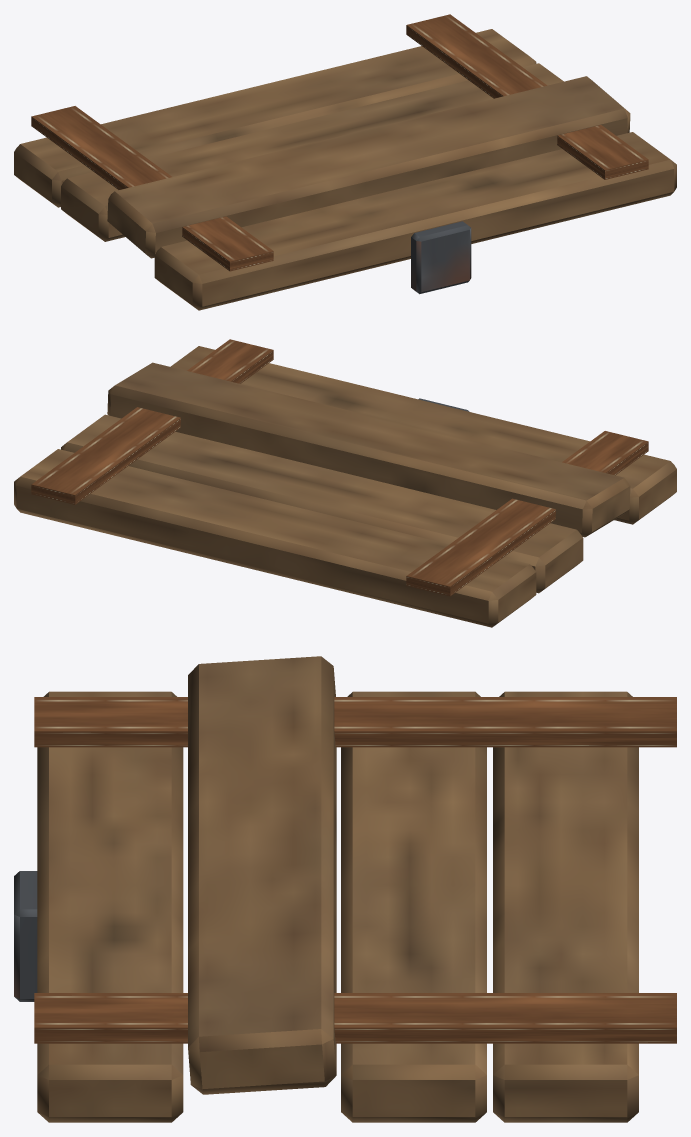
File: SM_StorageBox_Lid_Damaged.fbx
3 views of the same model, one above another, from view 1: azimuth 30°, elevation 25°; view 2: azimuth 150°, elevation 25°; view 3: azimuth 270°, elevation 25° (orthographic). The views are drawn at different scales.
Parts seen in each view (by area): view 1: SM_StorageBox_Lid_Damaged; view 2: SM_StorageBox_Lid_Damaged; view 3: SM_StorageBox_Lid_Damaged.
Part boxes in pixels (x1,y1,x2,y2): SM_StorageBox_Lid_Damaged: (14, 14, 676, 310); SM_StorageBox_Lid_Damaged: (14, 339, 676, 627); SM_StorageBox_Lid_Damaged: (14, 656, 676, 1122).
Bounding box in the file's own units: 3.1 × 0.5294 × 2.27.
1 material, 1 textured.
